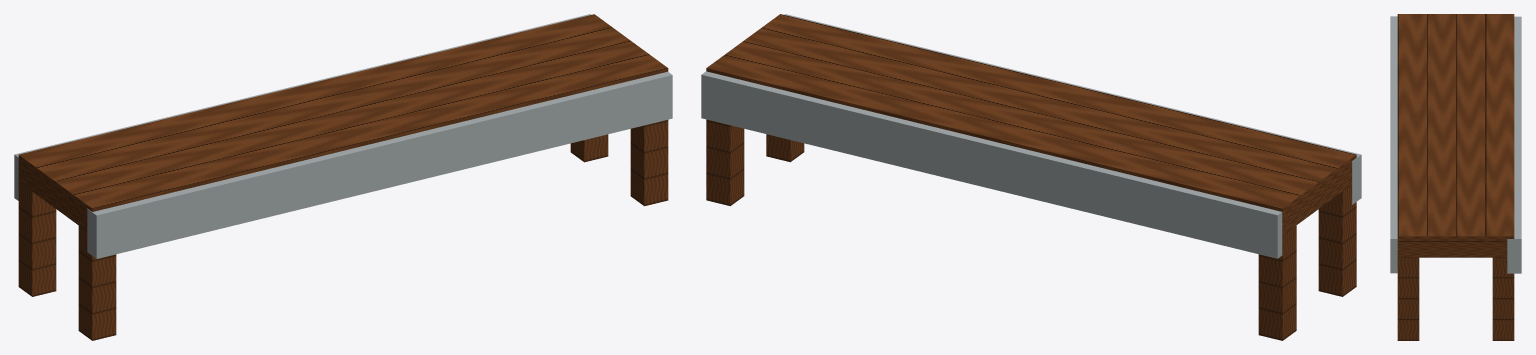
Rendered from roadside-survival-stops-roadside-picnic-bench-9cb6e902__23555.glb.
3 renders of one model, left to right at view 1: azimuth 30°, elevation 25°; view 2: azimuth 150°, elevation 25°; view 3: azimuth 270°, elevation 25°, orthographic. The views are drawn at different scales.
Visible parts, largest first — view 1: roadside-picnic-bench; view 2: roadside-picnic-bench; view 3: roadside-picnic-bench.
Part boxes in pixels (box(x1,y1,x2,y2)): roadside-picnic-bench: box(14, 14, 672, 340); roadside-picnic-bench: box(701, 14, 1361, 340); roadside-picnic-bench: box(1390, 14, 1521, 340).
Size of the model in its own units: 1.8 by 0.3949 by 0.45.
2 materials, 1 textured.
